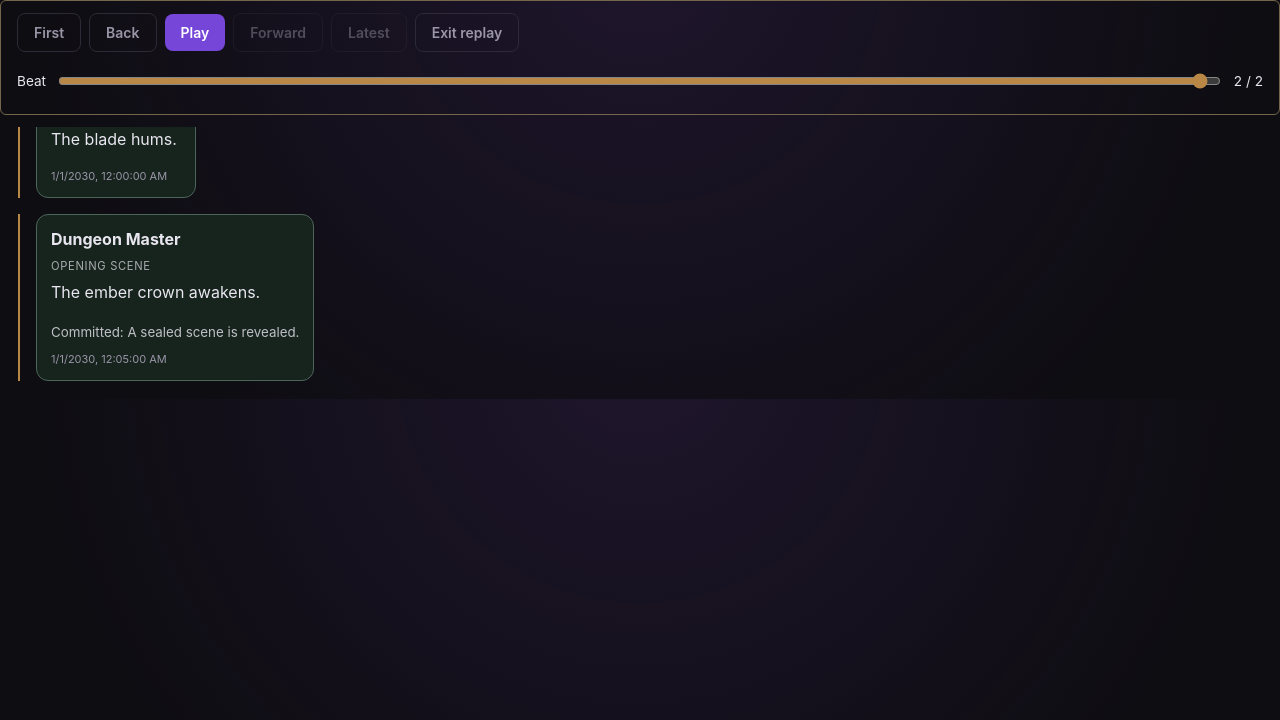
Test case: CampaignReplay › skips backward and forward through the session with the transport controls
The image size is (1280, 720).
(page scrolled)
Step 1. Click the button with aria-label "Previous beat" → (123, 32), box [89,13,156,52]
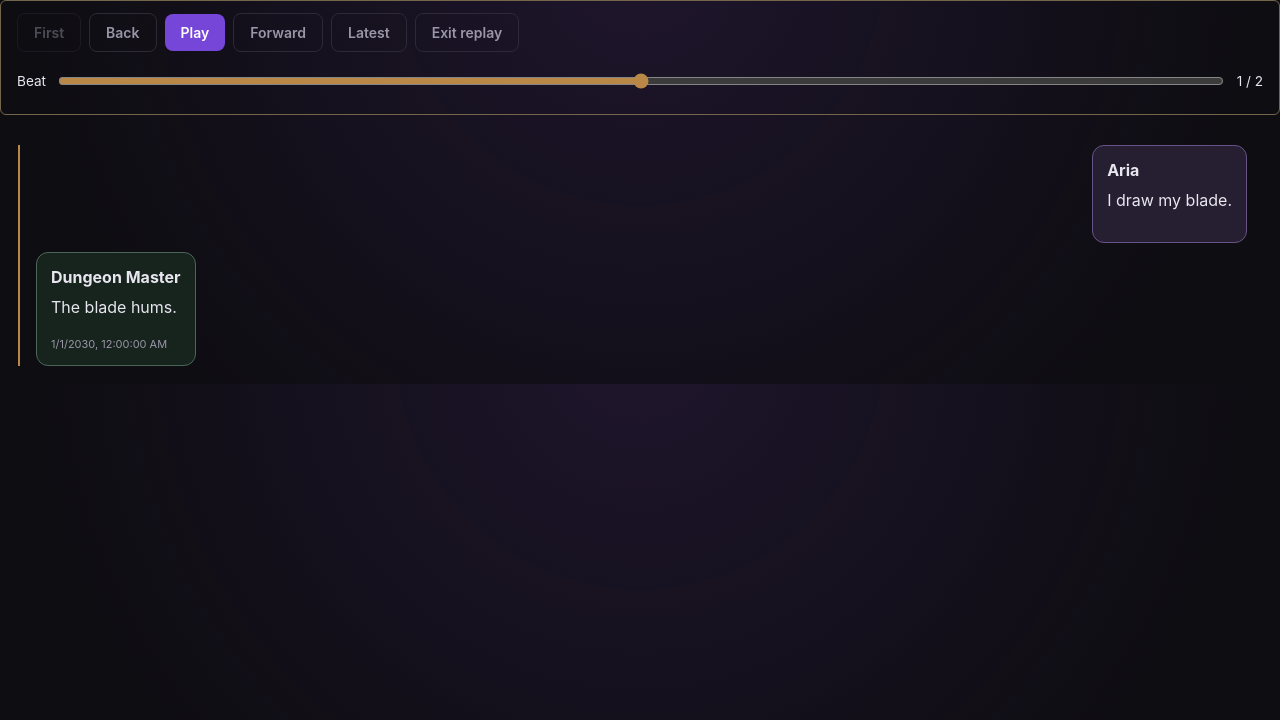
Expected: the text "1 / 2" is shown, [1237,73,1263,89]
Expected: the text "The ember crown awakens." is gone
Step 2. Click the button with aria-label "Next beat" → (278, 32), box [233,13,323,52]
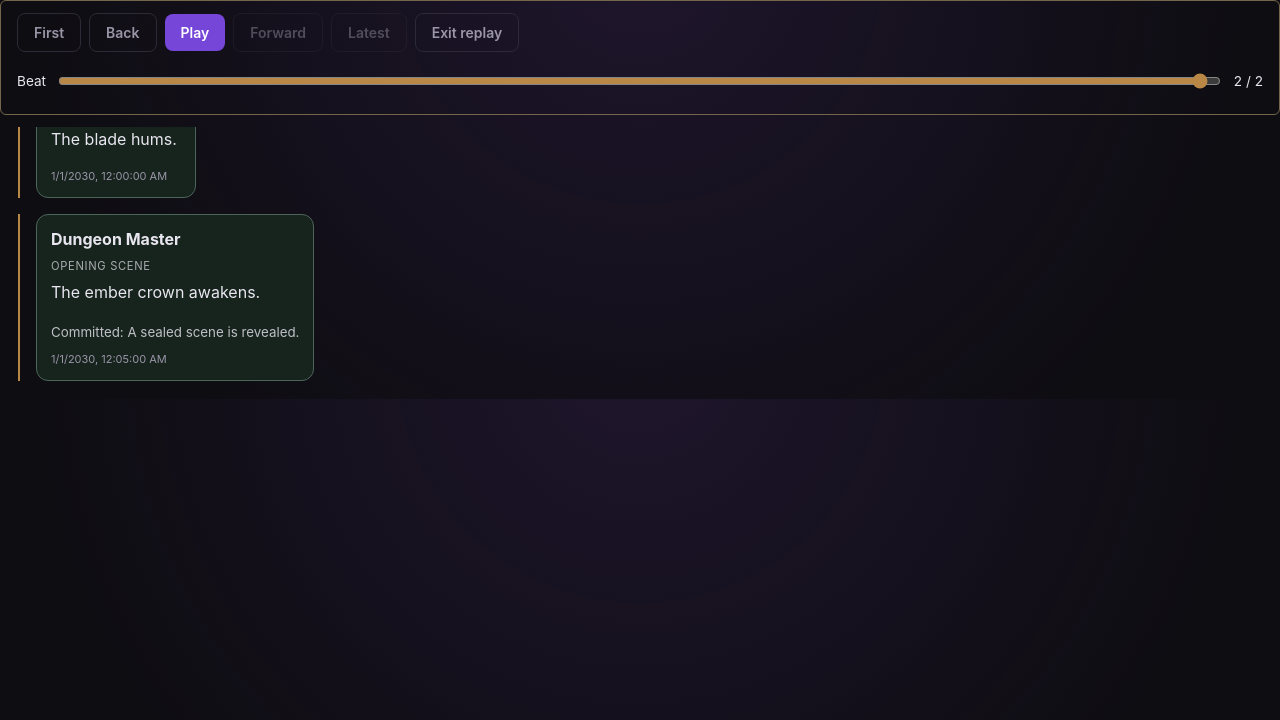
Expected: the text "2 / 2" is shown, [1234,73,1263,89]
Expected: the text "The ember crown awakens." is shown, [51,282,260,302]
Step 3. Set the slider named "Replay position" to "0" → (66, 81), box [58,62,1221,100]
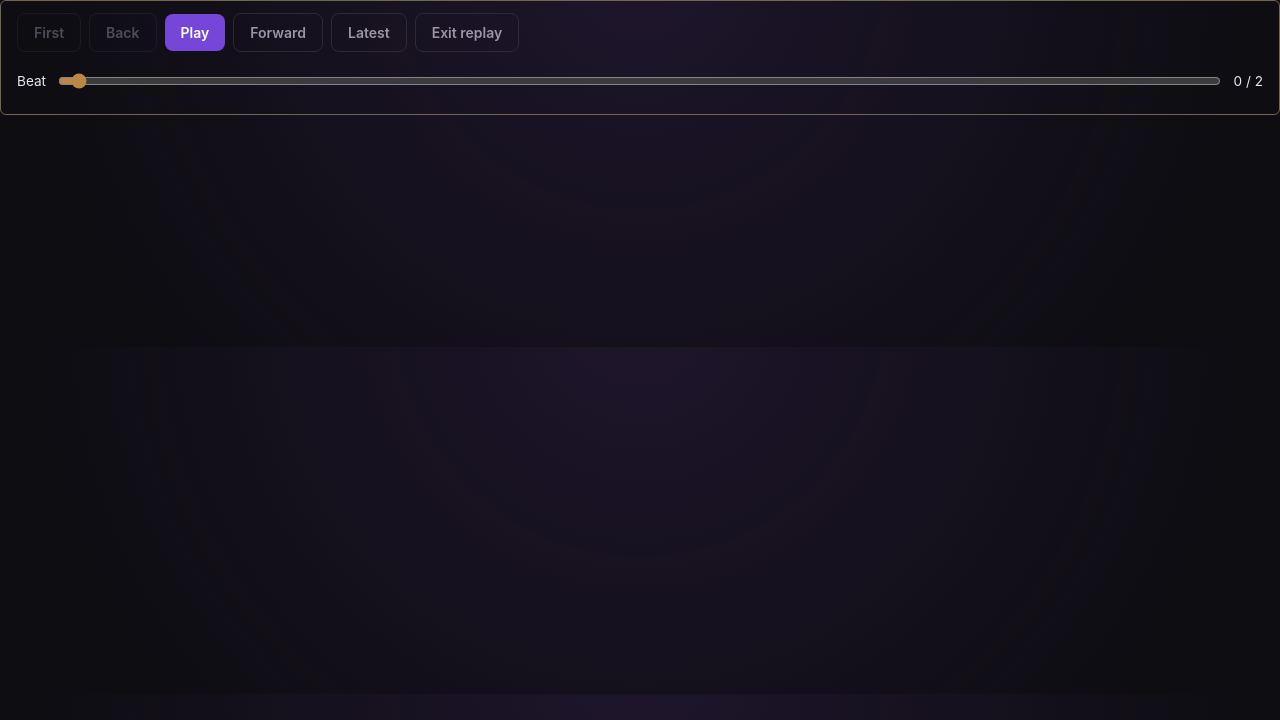
Expected: the text "0 / 2" is shown, [1234,73,1263,89]
Step 4. Click the button with aria-label "Play replay" → (195, 32), box [164,14,225,51]
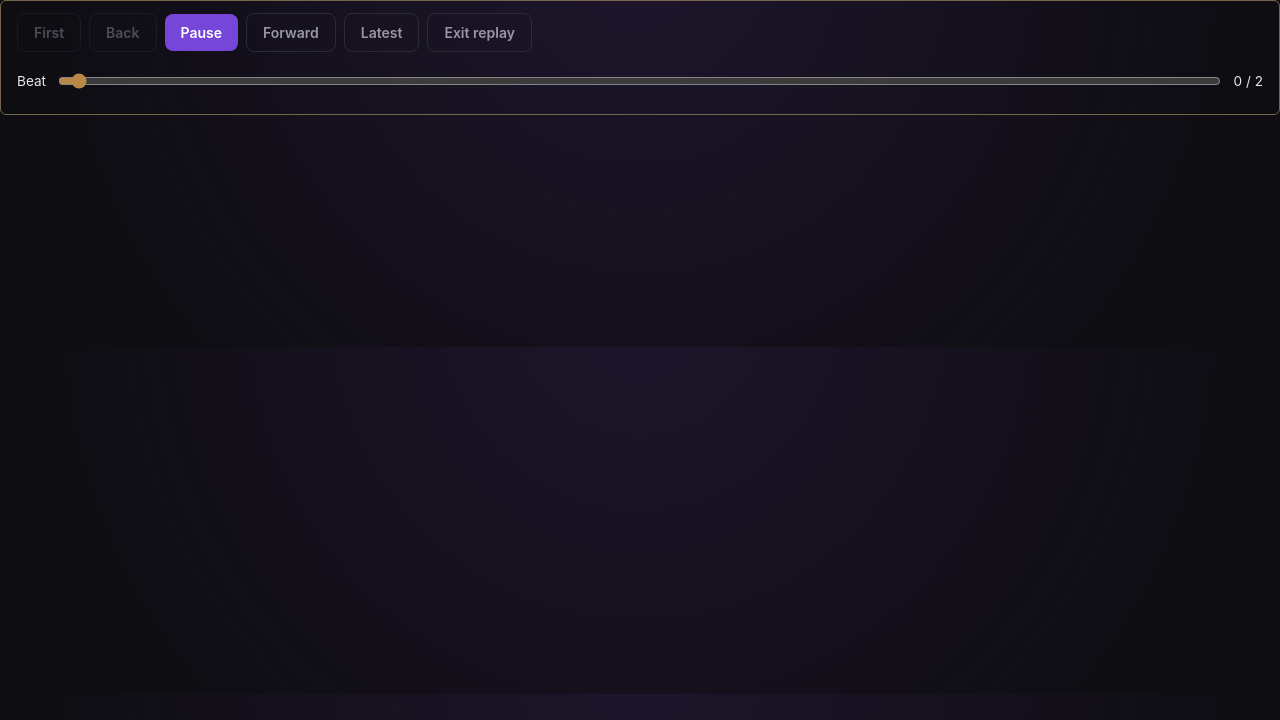
Expected: the button with aria-label "Pause replay" is shown, [164,14,238,51]
